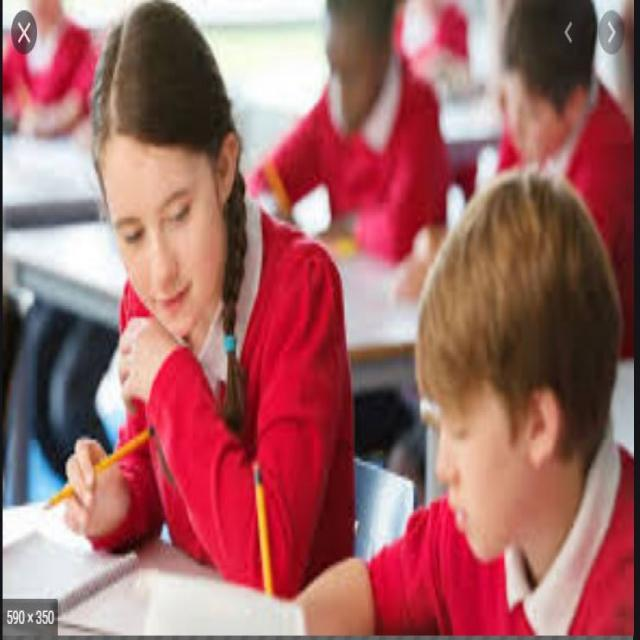cheating: (66, 0, 363, 636), (366, 167, 640, 640)
